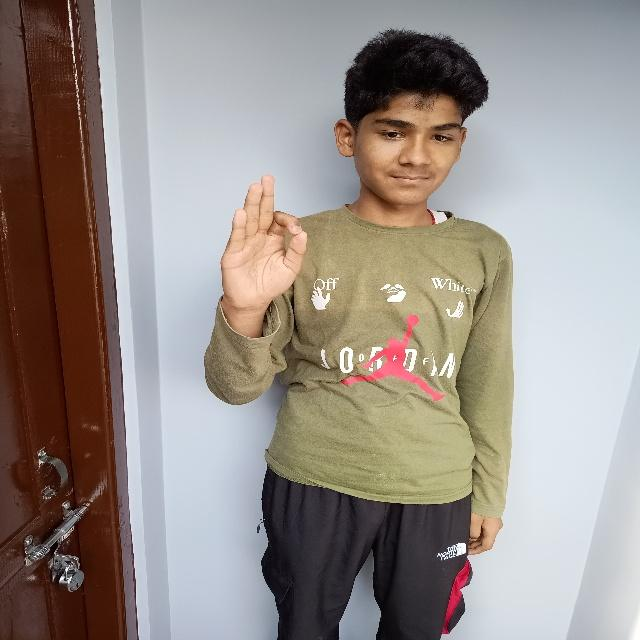Okay: (218, 168, 315, 332)
